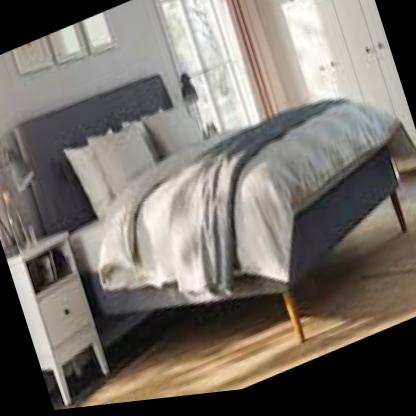Bed: (1, 0, 416, 416)
Curtains: (201, 0, 295, 149)
Nightstand: (4, 224, 115, 416)
Window: (148, 0, 257, 169)
